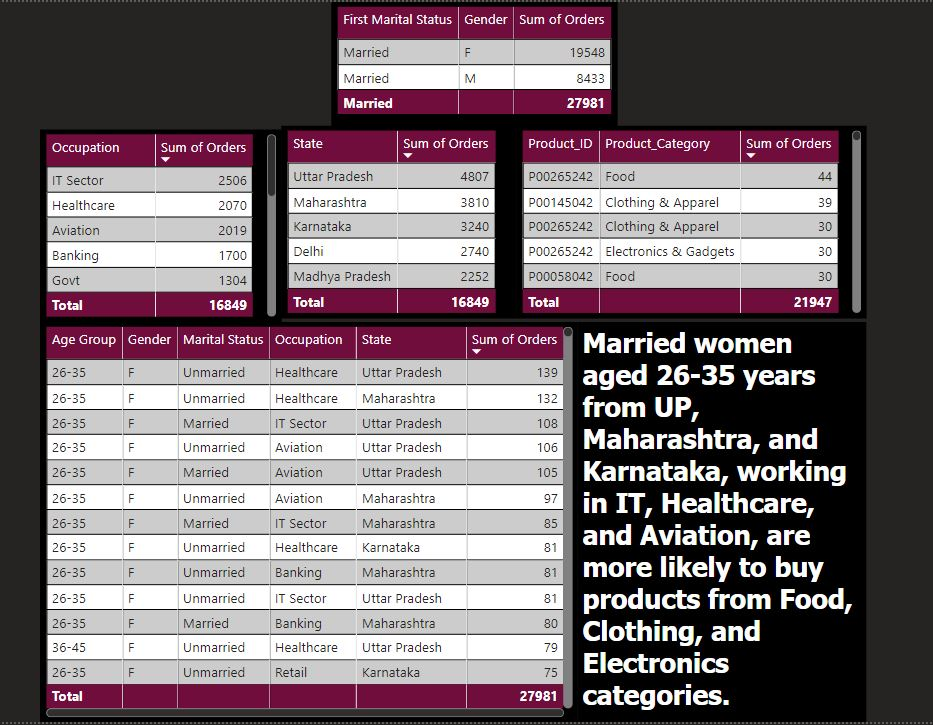

What the dashboard file says about the page in this screenshot:
{"tool":"powerbi","page":{"name":"Conclusion","canvas":[1280,720],"ordinal":1},"visuals":[{"type":"tableEx","fields":{"Values":["Diwali Sales Data.State","Sum(Diwali Sales Data.Orders)"]},"box":[396.2,123.8,235,192.5],"z":0},{"type":"tableEx","fields":{"Values":["Diwali Sales Data.Age Group","Diwali Sales Data.Gender","Diwali Sales Data.Marital Status","Diwali Sales Data.Occupation","Diwali Sales Data.State","Sum(Diwali Sales Data.Orders)"]},"box":[155,320,537.5,400],"z":1000},{"type":"tableEx","fields":{"Values":["Diwali Sales Data.Occupation","Sum(Diwali Sales Data.Orders)"]},"box":[155,127.5,241.2,192.5],"z":2000},{"type":"tableEx","fields":{"Values":["Diwali Sales Data.Product_ID","Diwali Sales Data.Product_Category","Sum(Diwali Sales Data.Orders)"]},"box":[631.2,123.8,350,192.5],"z":3000},{"type":"textbox","box":[692.5,320,288.8,400],"z":4000},{"type":"tableEx","fields":{"Values":["Diwali Sales Data.Marital Status","Diwali Sales Data.Gender","Sum(Diwali Sales Data.Orders)"]},"box":[446.2,0,286.2,123.8],"z":5000}]}

Visuals, with their boxes on the page's 1280x720 design canvas (x1, y1, x2, y2). These are canvas units, not pixel positions in the 933x725 screenshot, which may show the page scaled, cropped or inside an application window:
tableEx - Diwali Sales Data.State x Sum(Diwali Sales Data.Orders): (x1=396, y1=124, x2=631, y2=316)
tableEx - Diwali Sales Data.Age Group x Diwali Sales Data.Gender: (x1=155, y1=320, x2=692, y2=720)
tableEx - Diwali Sales Data.Occupation x Sum(Diwali Sales Data.Orders): (x1=155, y1=128, x2=396, y2=320)
tableEx - Diwali Sales Data.Product_ID x Diwali Sales Data.Product_Category: (x1=631, y1=124, x2=981, y2=316)
textbox: (x1=692, y1=320, x2=981, y2=720)
tableEx - Diwali Sales Data.Marital Status x Diwali Sales Data.Gender: (x1=446, y1=0, x2=732, y2=124)
